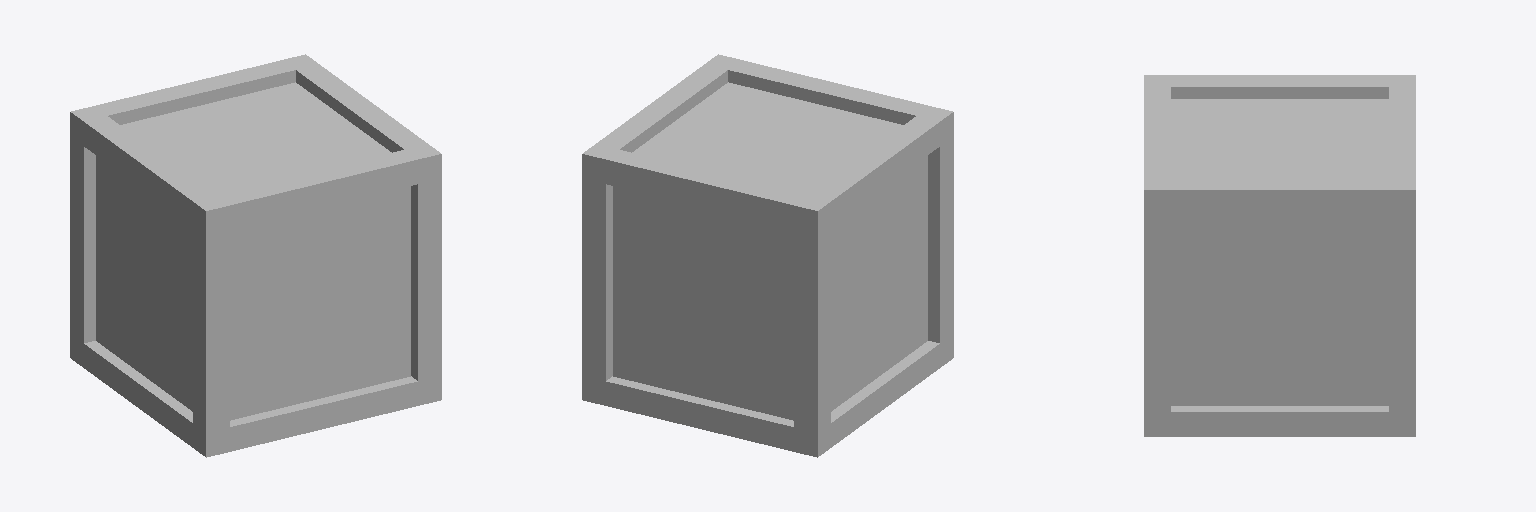
File: wood_crate.obj
3 renders of one model, left to right at view 1: azimuth 30°, elevation 25°; view 2: azimuth 150°, elevation 25°; view 3: azimuth 270°, elevation 25°, orthographic.
Visible parts, largest first — view 1: Cube; view 2: Cube; view 3: Cube.
Part boxes in pixels (bbox=[...]): Cube: bbox=[70, 54, 441, 457]; Cube: bbox=[582, 54, 953, 457]; Cube: bbox=[1144, 75, 1415, 436].
Bounding box in the file's own units: 1 × 1 × 1.